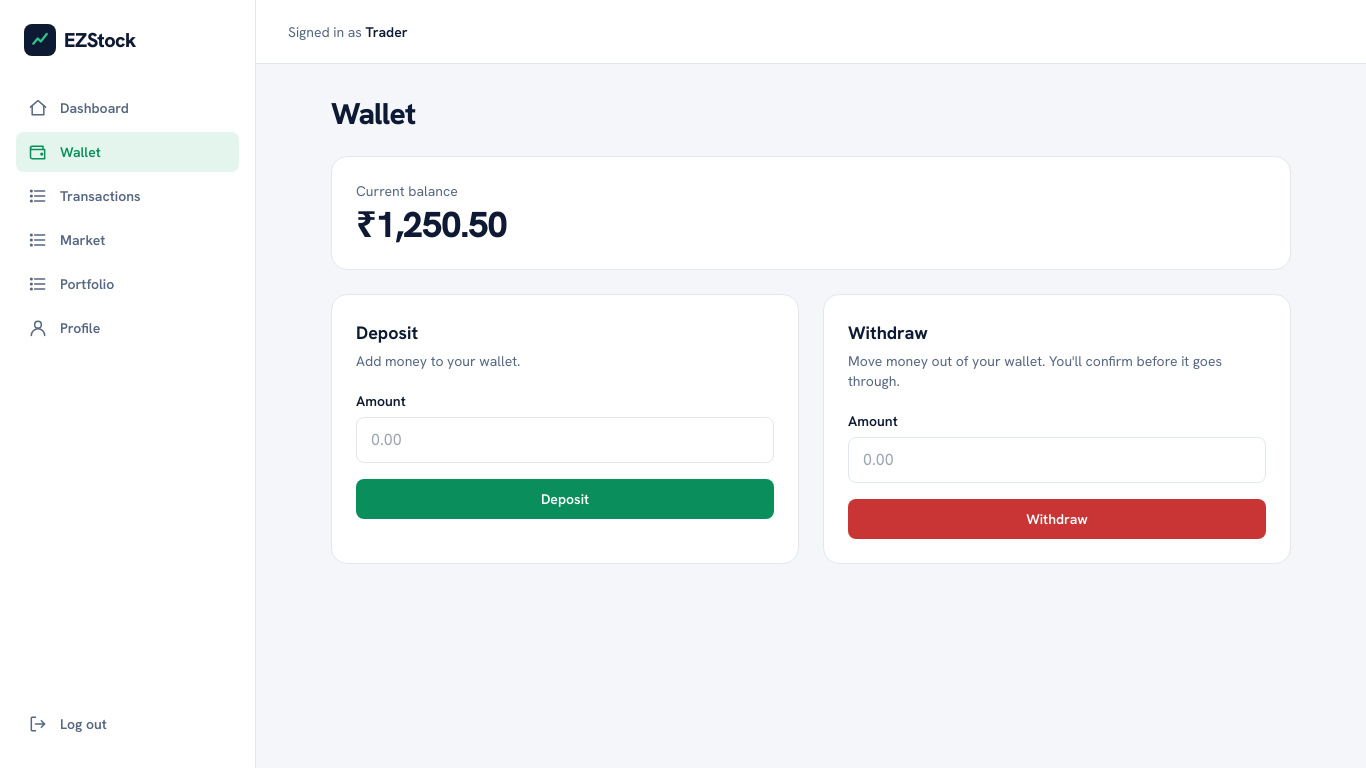
Test: wallet page › does not withdraw when the confirmation is cancelled
This screenshot has width=1366, height=768.
expect the text "₹1,250.50" is shown: met, box [356,201,507,248]
Type "250" into the 2nd field labelled "Amount" at coordinates (1057, 460), box [848,437,1266,483]
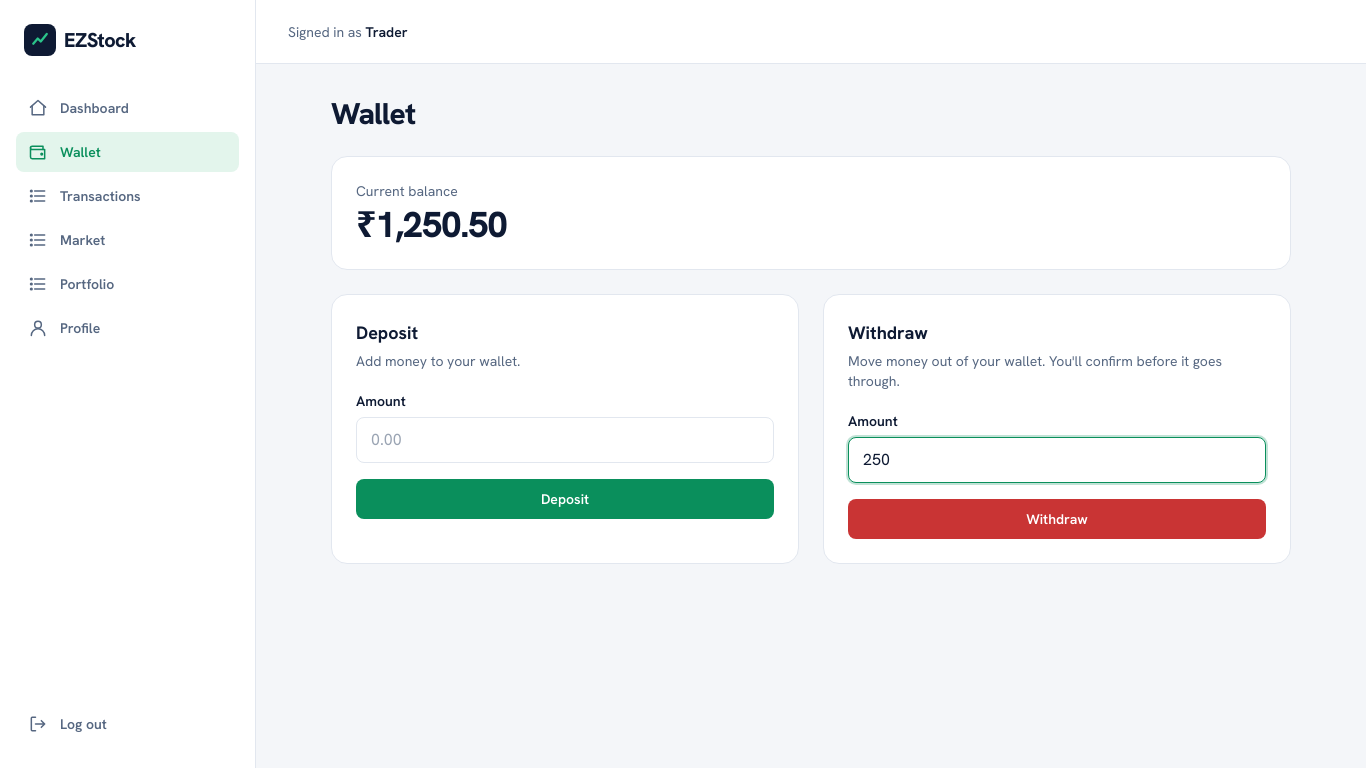
Click the button "Withdraw" at coordinates (1057, 519), box [848,499,1266,539]
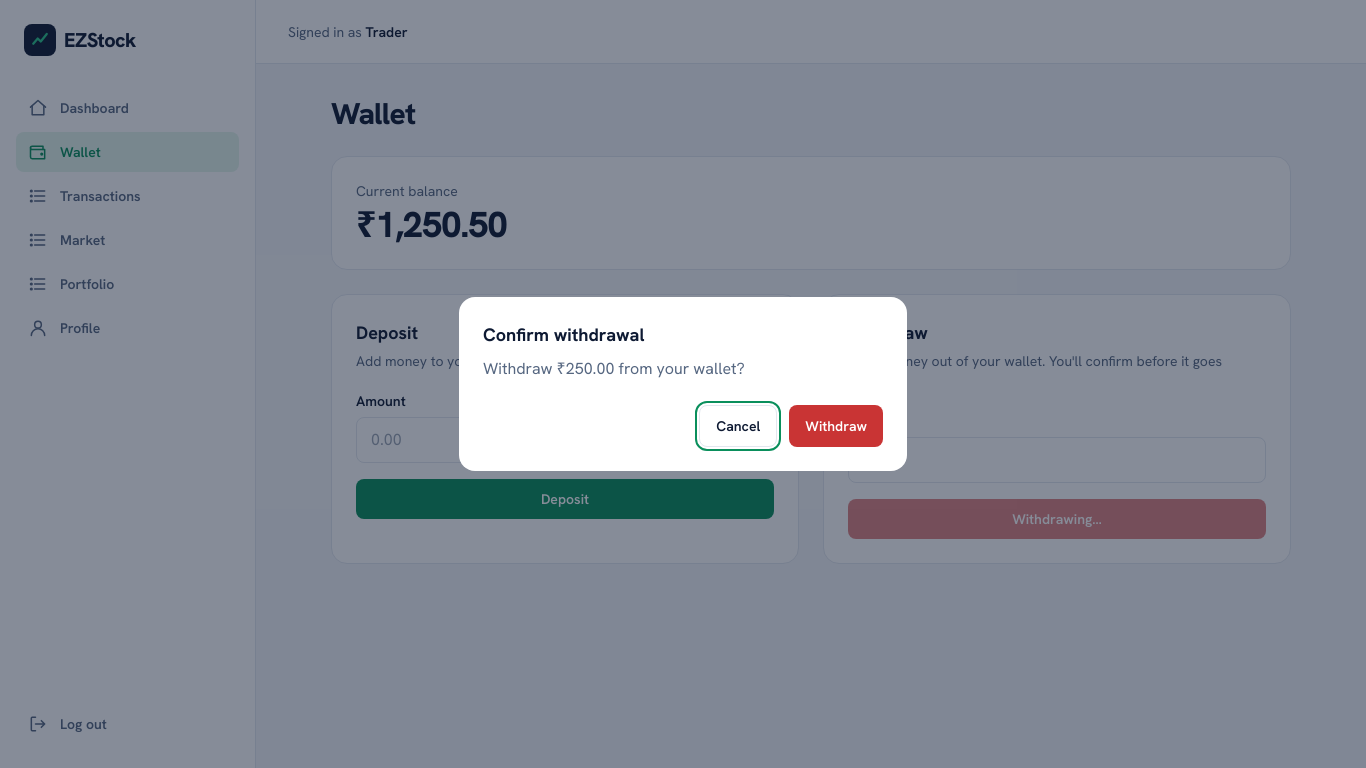
Click the button "Cancel" at coordinates (738, 426), box [699,405,777,447]
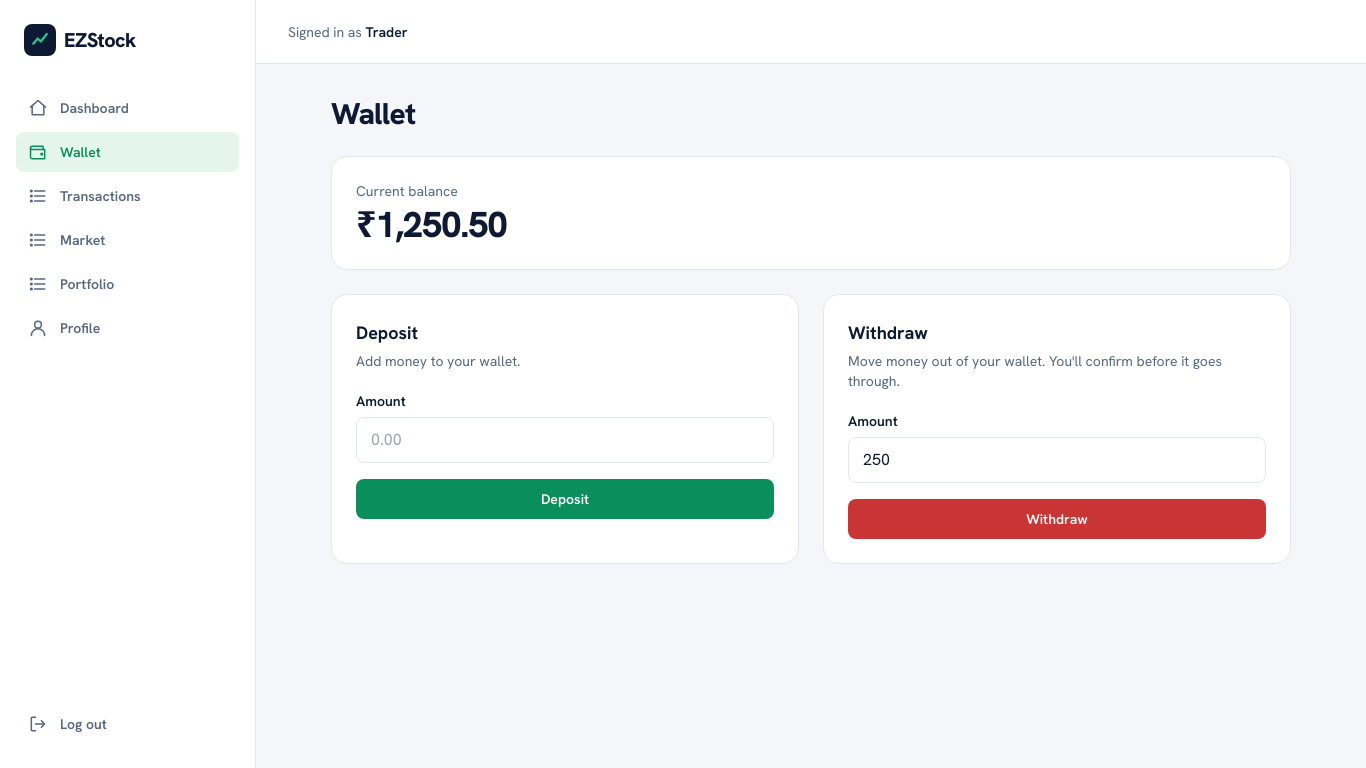
expect the dialog is gone: met
